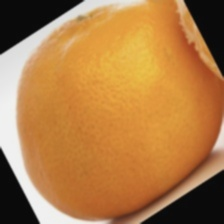orange: (56, 30, 208, 192)
